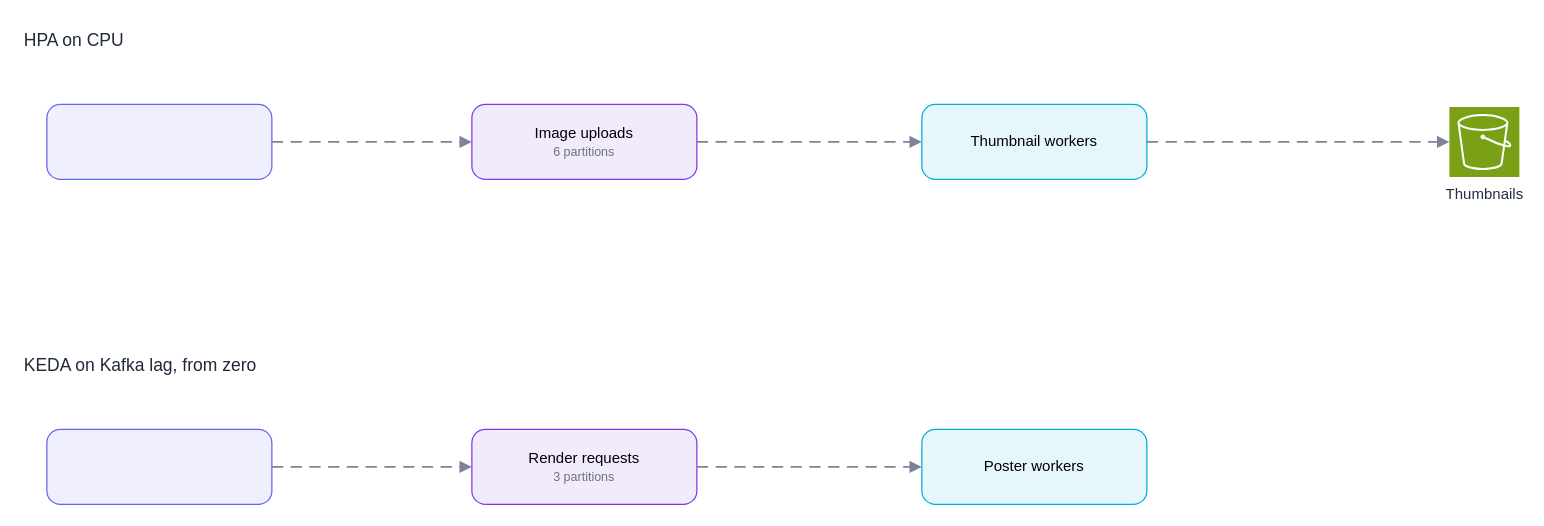
Some shapes in this 1544 by 526 pixel diagram are drawn without their labels. The centre of each missing label's shape, as x and y in pixels:
Poster studio: pixel 159 466
Upload clients: pixel 159 141
